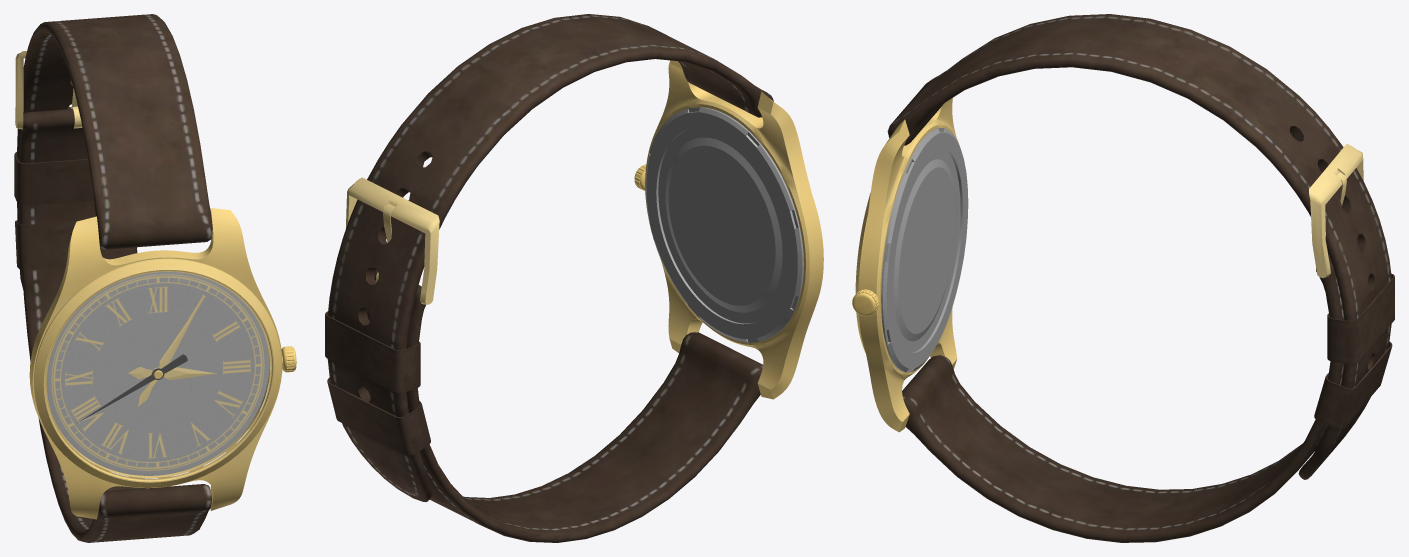
The model's file is VintageWatch.glb.
The picture shows the model from 3 angles, left to right: view 1: azimuth 30°, elevation 25°; view 2: azimuth 150°, elevation 25°; view 3: azimuth 270°, elevation 25°; orthographic projection. The views are drawn at different scales.
Parts seen in each view (by area): view 1: Object_2; view 2: Object_2; view 3: Object_2.
Boxes of the visible parts, x1,y1,x2,y2 form: Object_2: [14, 14, 296, 542]; Object_2: [325, 14, 823, 542]; Object_2: [852, 14, 1394, 542].
Bounding box in the file's own units: 3.98 × 6.07 × 6.2.
1 material, 1 textured.
